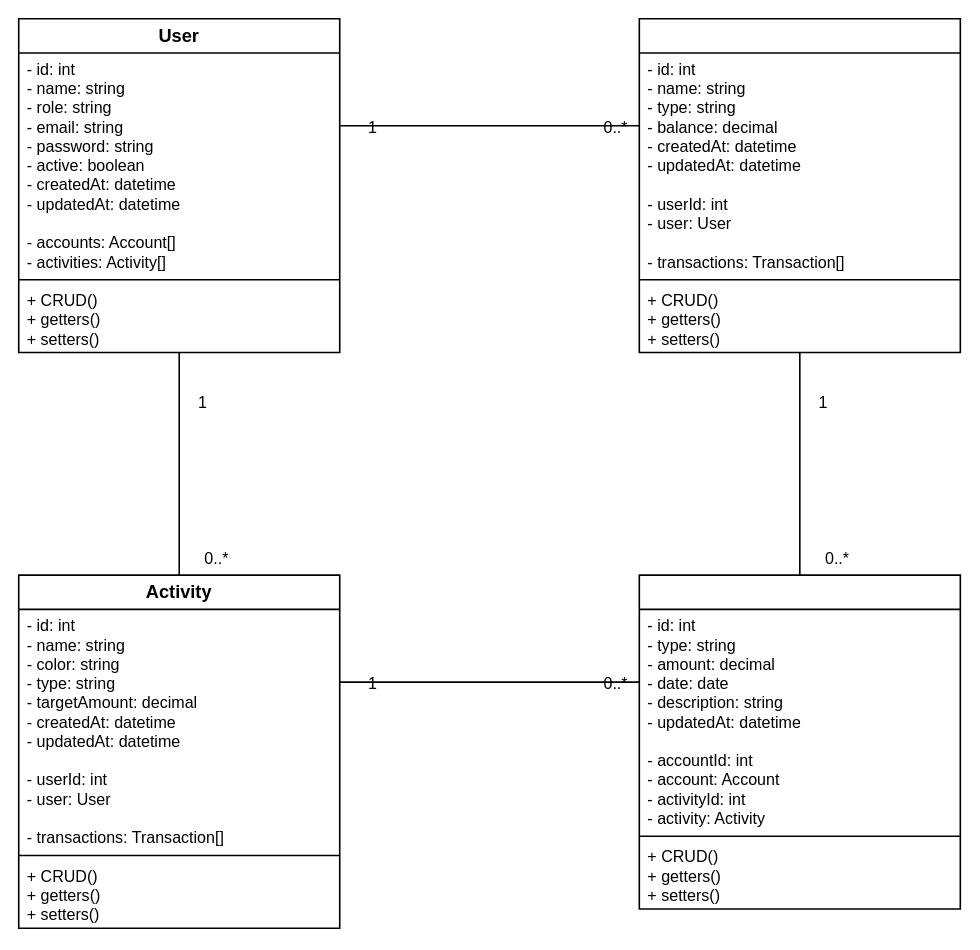
This 980x950 diagram has some shape labels left out. Each missing label, with the box of its shape:
Account: (638, 17, 961, 353)
Transaction: (638, 574, 961, 909)
